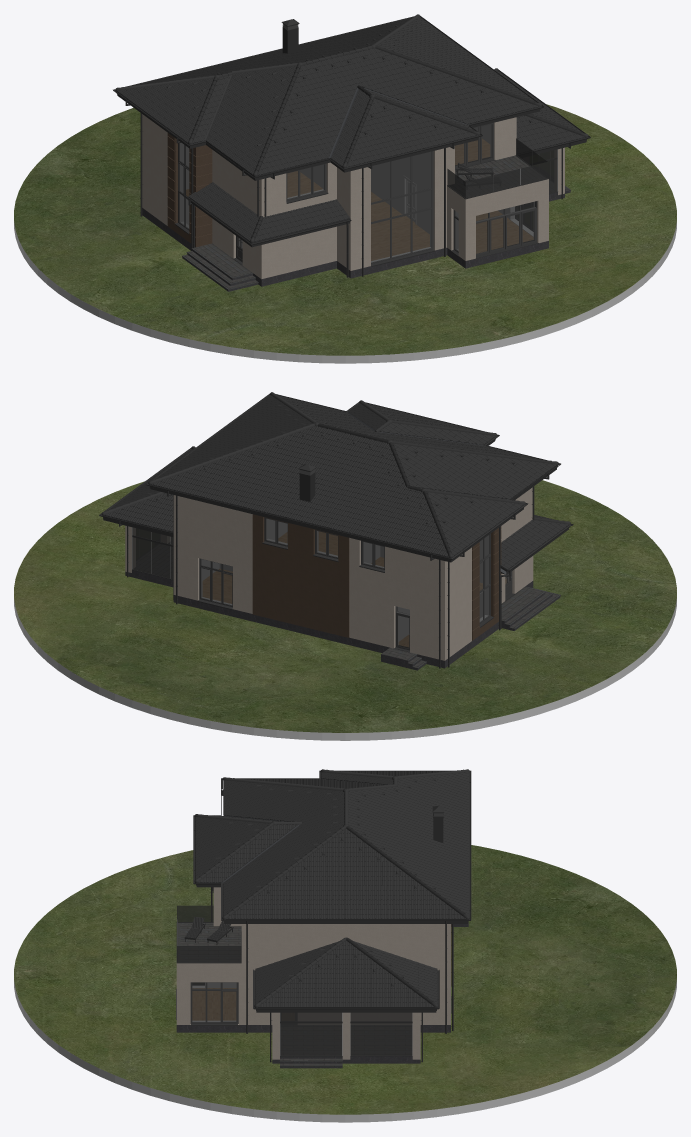
The model's file is house-4.glb.
3 views of the same model, one above another, from view 1: azimuth 30°, elevation 25°; view 2: azimuth 150°, elevation 25°; view 3: azimuth 270°, elevation 25° (orthographic).
Visible parts, largest first — view 1: object 11, object 33, object 23, object 32, object 27, object 28, object 26, object 24, object 25, Grey Rubber_Grey Rubber_0, object 3, object 6 (+6 smaller); view 2: object 11, object 27, object 33, object 23, object 34, object 26, Grey Rubber_Grey Rubber_0, object 24, object 32, object 25, object 28, object 2 (+5 smaller); view 3: object 11, object 27, object 33, object 26, object 28, object 23, object 32, object 24, object 6, Grey Rubber_Grey Rubber_0, object 25, object 2 (+2 smaller).
Boxes of the visible parts, x1=… form: object 11: x1=14, y1=104, x2=676, y2=355; object 33: x1=142, y1=114, x2=564, y2=279; object 23: x1=116, y1=17, x2=582, y2=241; object 32: x1=179, y1=124, x2=557, y2=262; object 27: x1=115, y1=14, x2=534, y2=173; object 28: x1=253, y1=18, x2=541, y2=176; object 26: x1=175, y1=19, x2=588, y2=277; object 24: x1=117, y1=23, x2=548, y2=276; object 25: x1=113, y1=16, x2=590, y2=277; Grey Rubber_Grey Rubber_0: x1=14, y1=221, x2=676, y2=363; object 3: x1=186, y1=139, x2=533, y2=260; object 6: x1=182, y1=155, x2=570, y2=290; object 11: x1=14, y1=480, x2=676, y2=732; object 27: x1=148, y1=395, x2=540, y2=558; object 33: x1=125, y1=487, x2=533, y2=660; object 23: x1=103, y1=395, x2=566, y2=560; object 34: x1=252, y1=514, x2=501, y2=640; object 26: x1=101, y1=412, x2=570, y2=628; Grey Rubber_Grey Rubber_0: x1=14, y1=599, x2=676, y2=740; object 24: x1=149, y1=396, x2=557, y2=668; object 32: x1=132, y1=518, x2=510, y2=648; object 25: x1=99, y1=393, x2=573, y2=662; object 28: x1=154, y1=392, x2=558, y2=479; object 2: x1=125, y1=570, x2=560, y2=670; object 11: x1=14, y1=845, x2=676, y2=1114; object 27: x1=223, y1=769, x2=469, y2=919; object 33: x1=176, y1=887, x2=450, y2=1059; object 26: x1=184, y1=776, x2=451, y2=1061; object 28: x1=222, y1=777, x2=461, y2=919; object 23: x1=185, y1=769, x2=468, y2=1010; object 32: x1=177, y1=905, x2=412, y2=1055; object 24: x1=176, y1=771, x2=470, y2=1033; object 6: x1=178, y1=923, x2=411, y2=1066; Grey Rubber_Grey Rubber_0: x1=14, y1=980, x2=676, y2=1122; object 25: x1=176, y1=770, x2=471, y2=1062; object 2: x1=176, y1=921, x2=468, y2=1068.
Size of the model in its own units: 35.81 by 10.24 by 35.79.
Materials: 28 (12 with a texture image).
